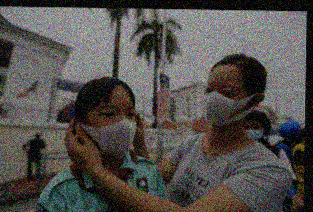with_mask: (88, 102, 138, 158), (201, 80, 246, 127)
